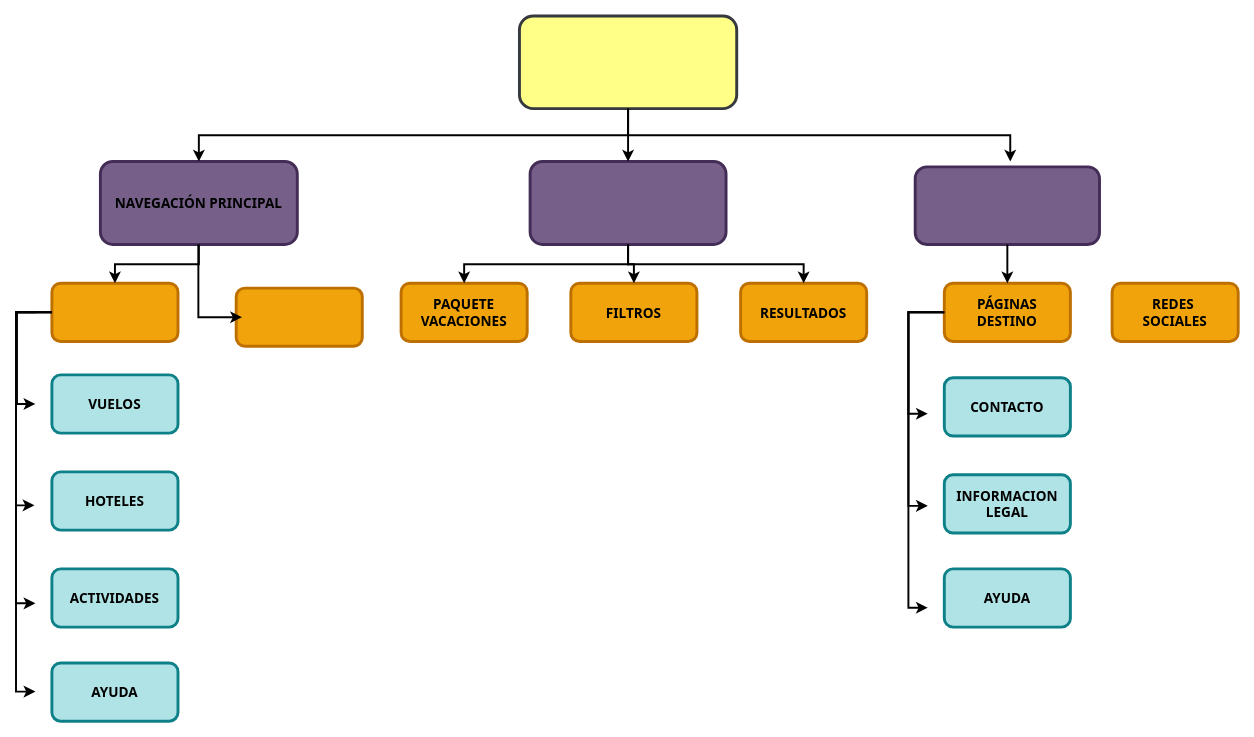
Image size: 1254x737. Some labels were removed from this diagram. The shapes that lost their labels are listed below. From the top down, each one's centre as x and y in pixels, then its label:
At (627,62): "SKYSCANNER".
At (627,202): "NAVEGACIÓN SECUNDARIA".
At (1006,205): "ENLACES DE NAVEGACIÓN".
At (114,311): "BOTONES DE NAVEGACIÓN".
At (298,316): "BARRA DE BÚSQUEDA".
